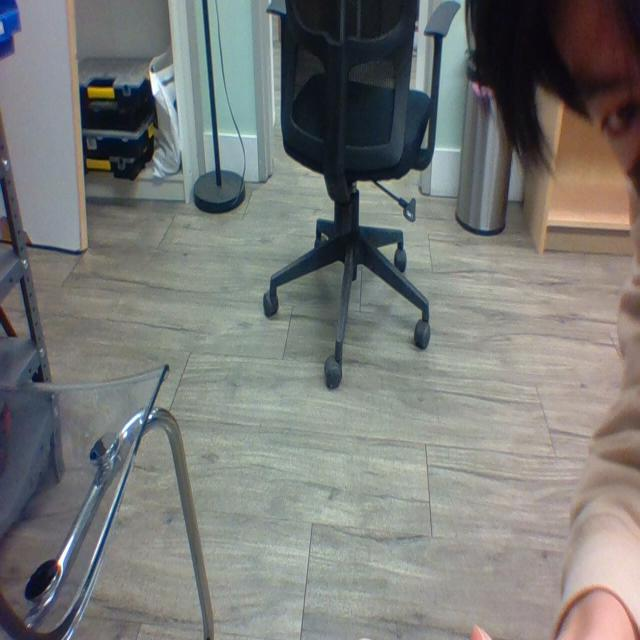black-chair: (259, 0, 446, 371)
